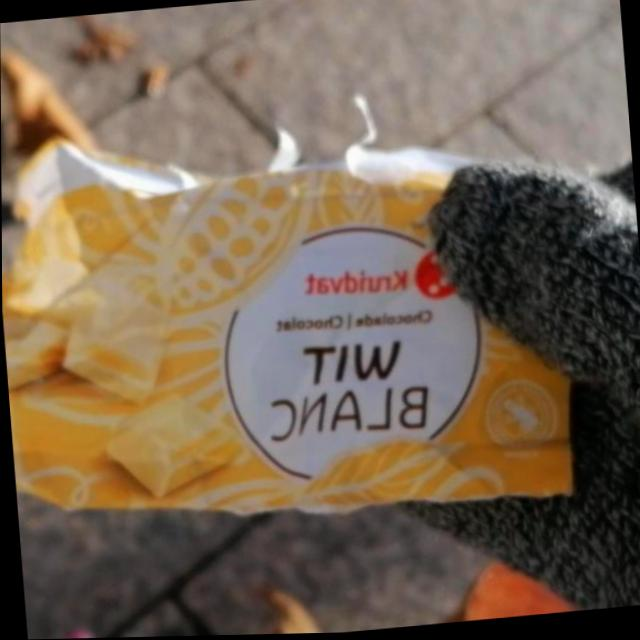Plastic: (1, 81, 593, 552)
